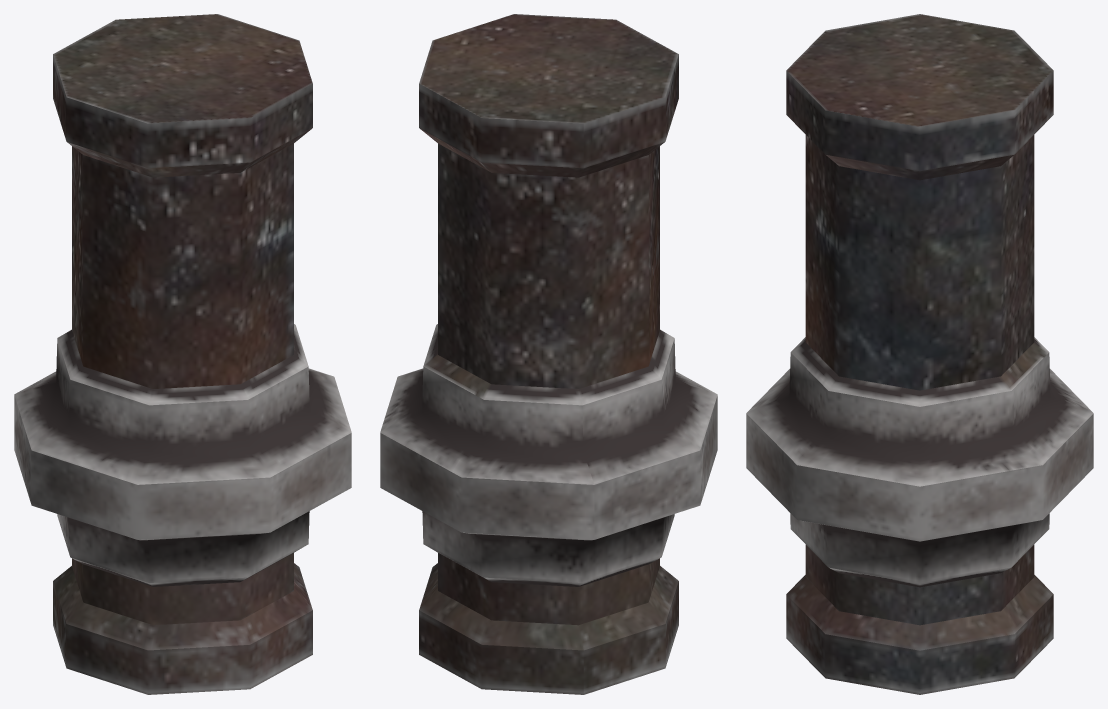
The model's file is NM_ThinTube_06.fbx.
3 renders of one model, left to right at view 1: azimuth 30°, elevation 25°; view 2: azimuth 150°, elevation 25°; view 3: azimuth 270°, elevation 25°, orthographic.
Visible parts, largest first — view 1: Tube_Convers02_low; view 2: Tube_Convers02_low; view 3: Tube_Convers02_low.
Boxes of the visible parts, bbox=[...] form: Tube_Convers02_low: bbox=[14, 14, 351, 694]; Tube_Convers02_low: bbox=[380, 14, 717, 694]; Tube_Convers02_low: bbox=[746, 14, 1093, 694].
Size of the model in its own units: 16.41 by 29.59 by 16.41.
